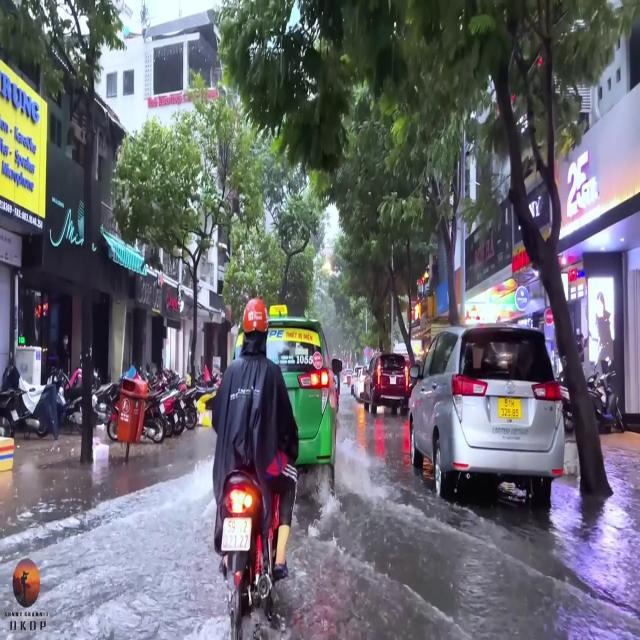bien_trang: (224, 514, 250, 550)
bien_vang: (500, 396, 521, 427)
